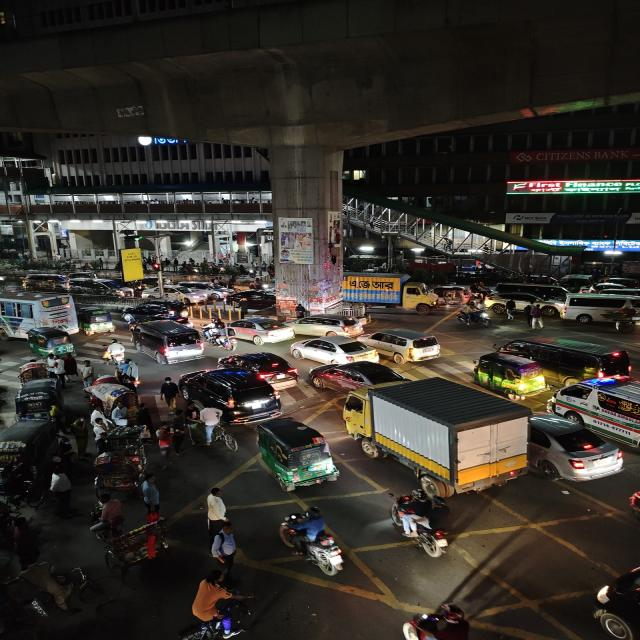bicycle: (179, 569, 256, 640), (195, 404, 238, 452)
bus: (0, 285, 77, 340)
car: (546, 375, 640, 450), (493, 337, 636, 382), (532, 416, 624, 482), (179, 368, 284, 422), (588, 561, 640, 640), (128, 319, 207, 365), (356, 327, 445, 365), (314, 362, 412, 396), (564, 290, 640, 330), (290, 336, 377, 366), (235, 350, 300, 384), (284, 313, 368, 338), (225, 317, 296, 346), (169, 280, 222, 304)
cng: (252, 419, 338, 491), (473, 352, 550, 396), (10, 382, 62, 422), (26, 327, 77, 358), (78, 306, 116, 337)
motorcycle: (276, 508, 350, 578), (180, 575, 256, 640), (384, 491, 454, 560), (454, 298, 494, 329), (102, 338, 128, 378), (627, 484, 640, 530)
pedestrian: (203, 484, 238, 569), (205, 521, 240, 573), (202, 485, 232, 534), (93, 495, 128, 537), (46, 468, 76, 515), (70, 414, 93, 464), (139, 474, 163, 515), (154, 423, 178, 463), (158, 375, 181, 408), (523, 300, 548, 330), (48, 354, 68, 386), (62, 353, 79, 383)
rickshaw: (94, 514, 171, 574), (89, 450, 144, 498), (17, 361, 50, 387)
truck: (350, 380, 533, 498), (344, 270, 441, 317)
